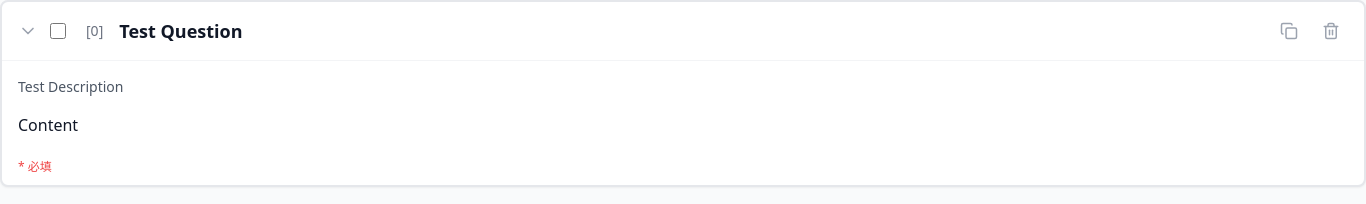
Test: QuestionCard › Title Editing › should enter edit mode on double click
Double-click the heading "Test Question" at (181, 31), box [119,19,242,43]
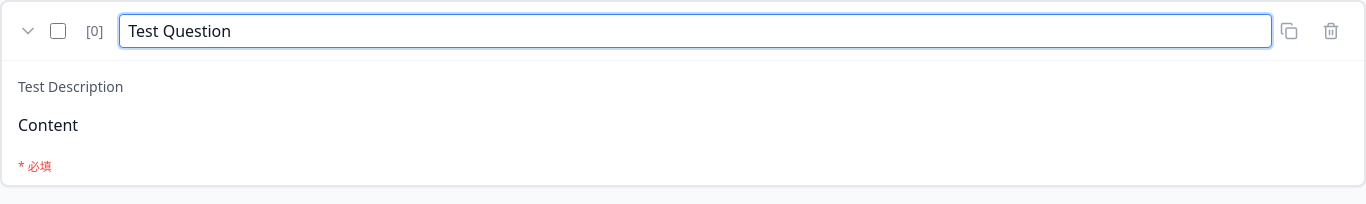
Now the field showing "Test Question" is shown, box [119,14,1272,48]
